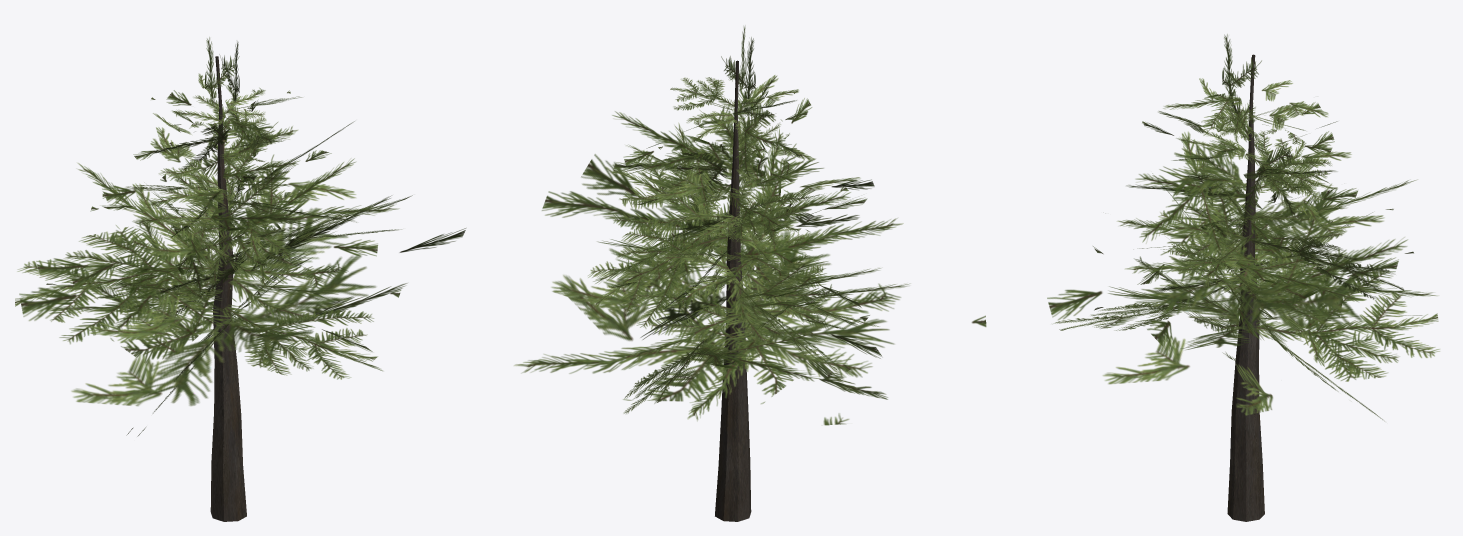
File: prop_sapling_pinemed_b.glb
The picture shows the model from 3 angles, left to right: view 1: azimuth 30°, elevation 25°; view 2: azimuth 150°, elevation 25°; view 3: azimuth 270°, elevation 25°; orthographic projection.
Visible parts, largest first — view 1: conifer_pine_110; view 2: conifer_pine_110; view 3: conifer_pine_110.
Part boxes in pixels (x1=…): conifer_pine_110: x1=15, y1=37, x2=465, y2=521; conifer_pine_110: x1=514, y1=26, x2=986, y2=521; conifer_pine_110: x1=1047, y1=34, x2=1439, y2=521.
Bounding box in the file's own units: 5.86 × 6.45 × 5.14.
2 materials, 2 textured.
